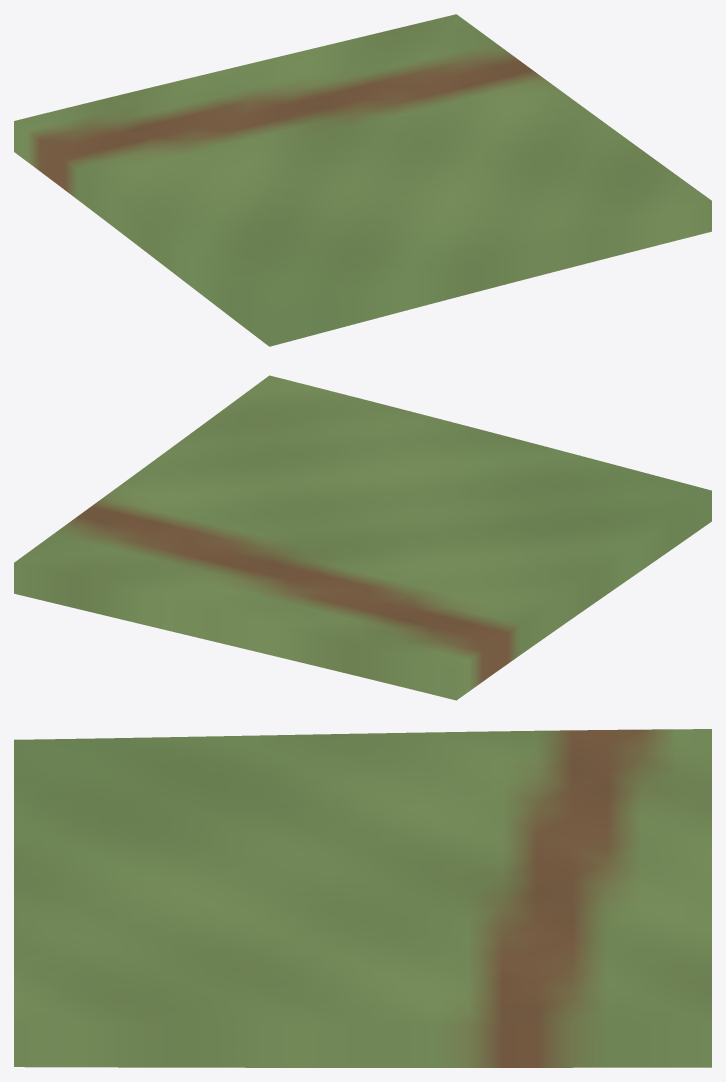
3 views of the same model, one above another, from view 1: azimuth 30°, elevation 25°; view 2: azimuth 150°, elevation 25°; view 3: azimuth 270°, elevation 25° (orthographic). The views are drawn at different scales.
Parts seen in each view (by area): view 1: terrain; view 2: terrain; view 3: terrain.
Boxes of the visible parts, x1,y1,x2,y2 form: terrain: (14,14,711,346); terrain: (14,375,711,700); terrain: (14,729,711,1067).
Bounding box in the file's own units: 30 × 2.52 × 30.
